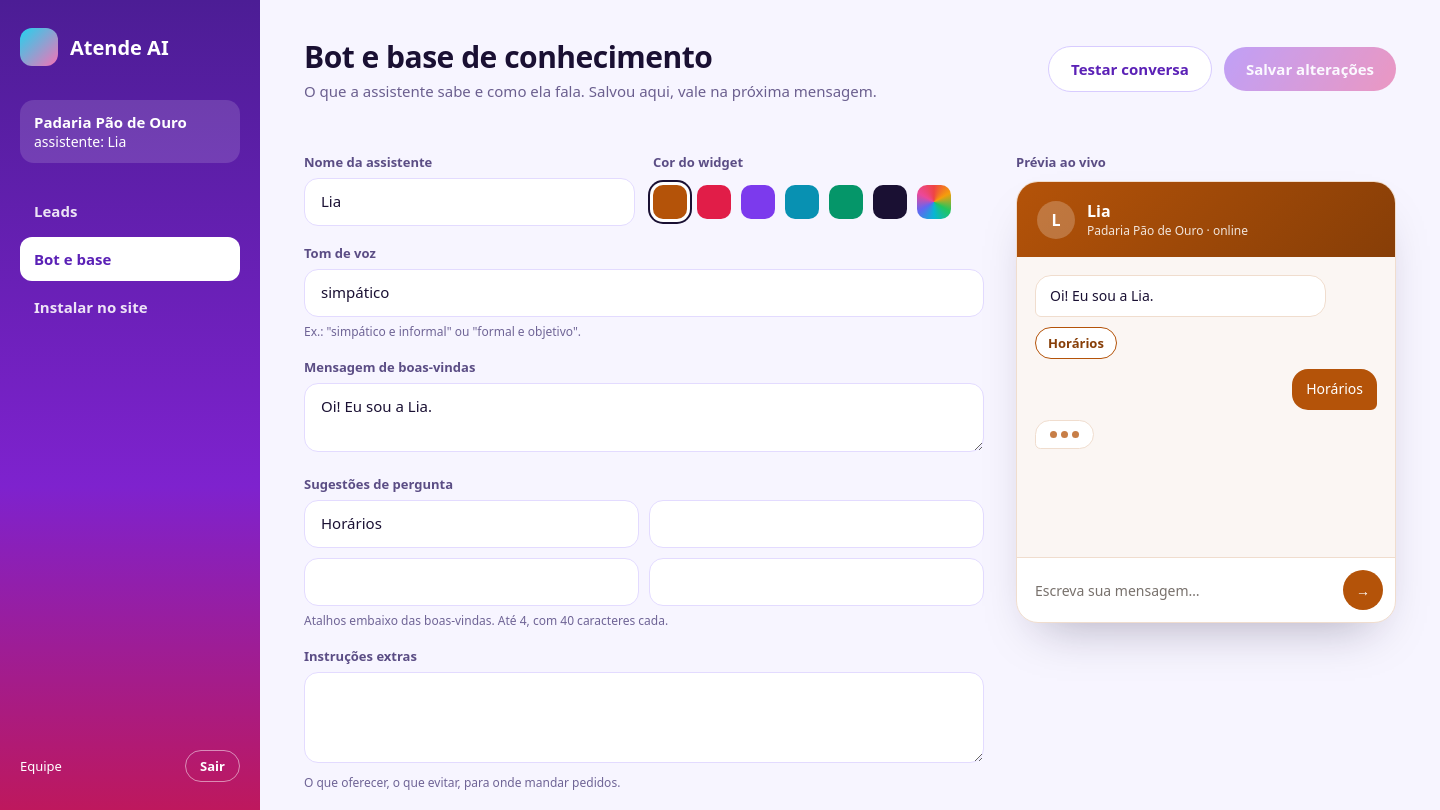
Test: bot e base › sessão vencida ao salvar volta ao login
Type " e direto" into the field labelled "Tom de voz" at (644, 293), box [304,269,984,317]
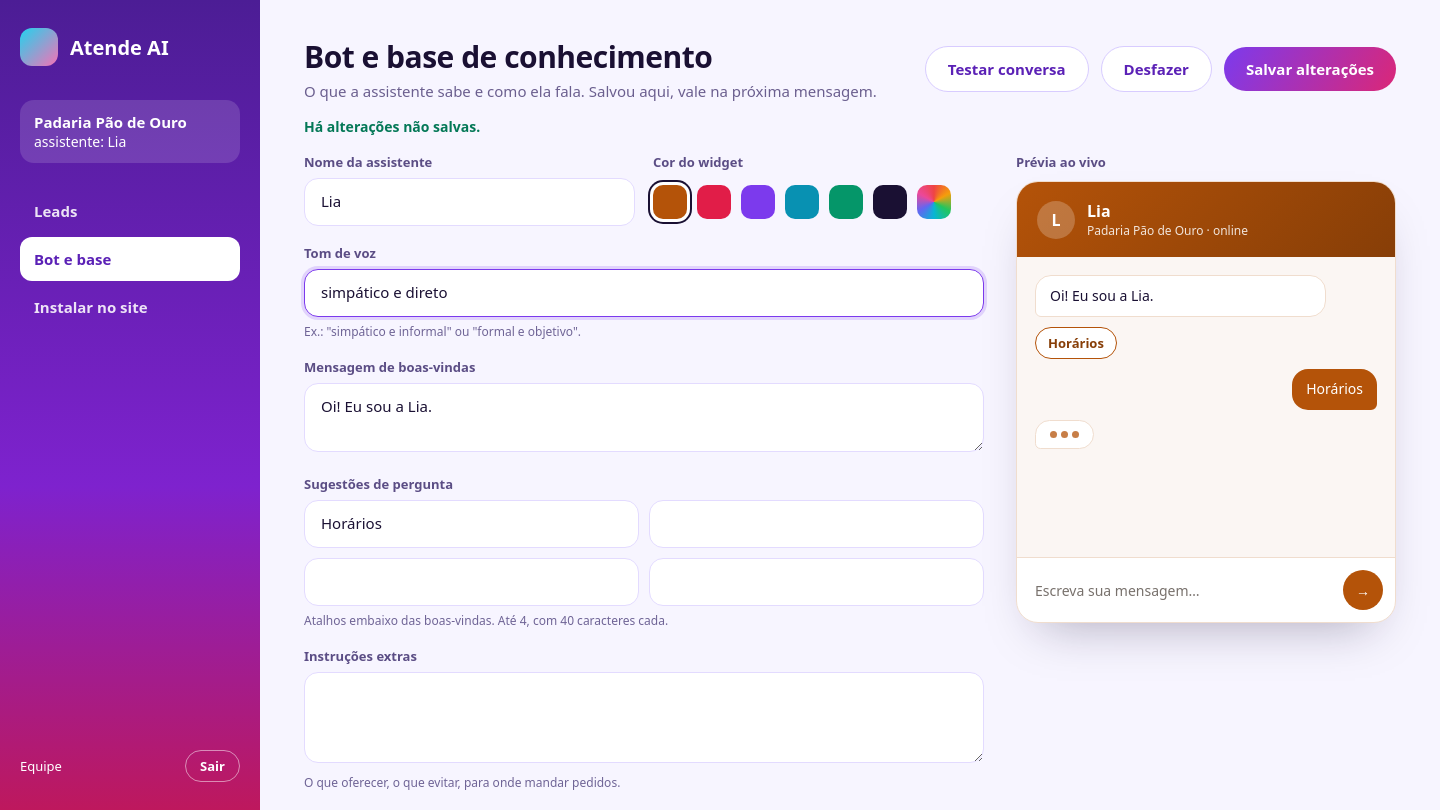
Click the button "Salvar alterações" at (1310, 68), box [1224,46,1396,90]
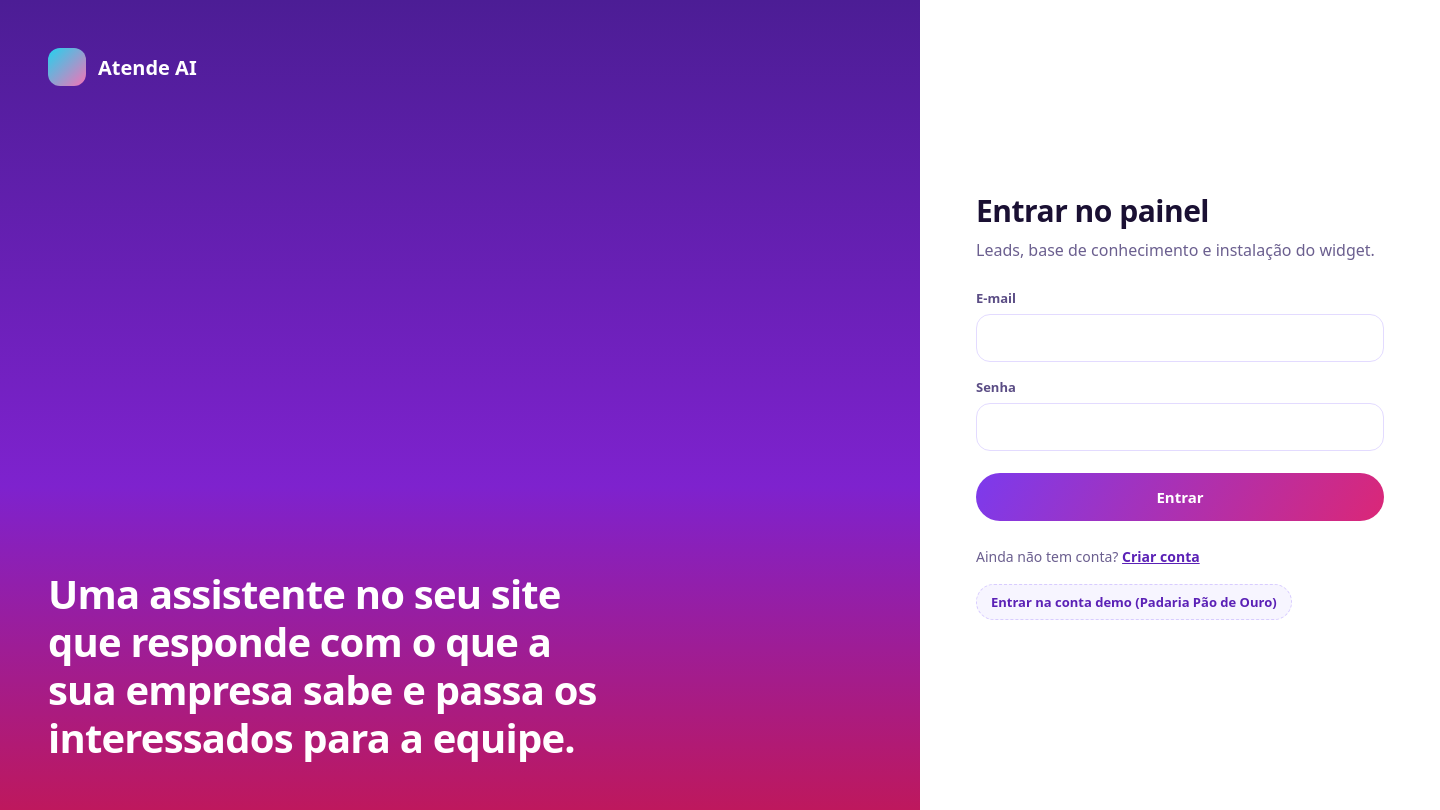
Now the heading "Entrar no painel" is shown, box [976,190,1209,231]
